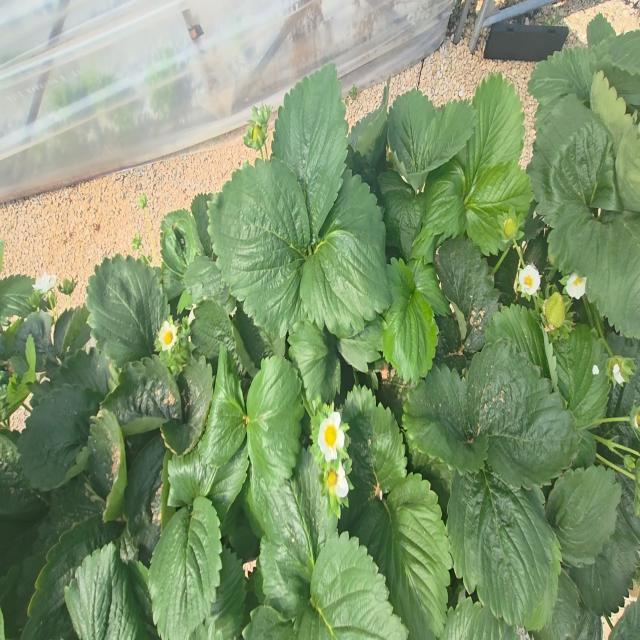Flowers: (322, 459, 349, 517), (319, 411, 346, 461), (606, 356, 635, 386), (519, 264, 540, 295), (564, 273, 587, 299), (158, 321, 176, 351), (33, 273, 56, 293)
Leaves: (209, 159, 309, 340), (447, 471, 557, 630), (467, 340, 582, 488), (349, 480, 450, 639), (300, 169, 389, 338), (272, 65, 348, 240), (255, 453, 336, 617), (527, 94, 622, 228), (548, 204, 640, 338), (23, 515, 120, 639), (299, 532, 408, 639), (148, 498, 222, 639), (86, 255, 169, 366), (64, 542, 158, 639), (246, 357, 304, 514), (403, 366, 487, 472), (342, 386, 407, 522), (17, 383, 99, 490), (545, 465, 621, 567), (436, 238, 499, 356), (465, 73, 524, 197), (382, 260, 438, 380), (465, 162, 533, 254), (407, 100, 475, 187), (197, 349, 246, 468), (555, 325, 611, 428), (104, 356, 181, 424), (412, 159, 464, 256), (167, 356, 213, 454), (87, 409, 127, 521), (378, 169, 426, 260), (388, 89, 437, 178), (528, 46, 595, 110), (288, 322, 340, 402), (192, 300, 239, 359), (182, 255, 229, 305)
Strawberries: (243, 104, 271, 158), (543, 292, 565, 331), (503, 217, 516, 238)
